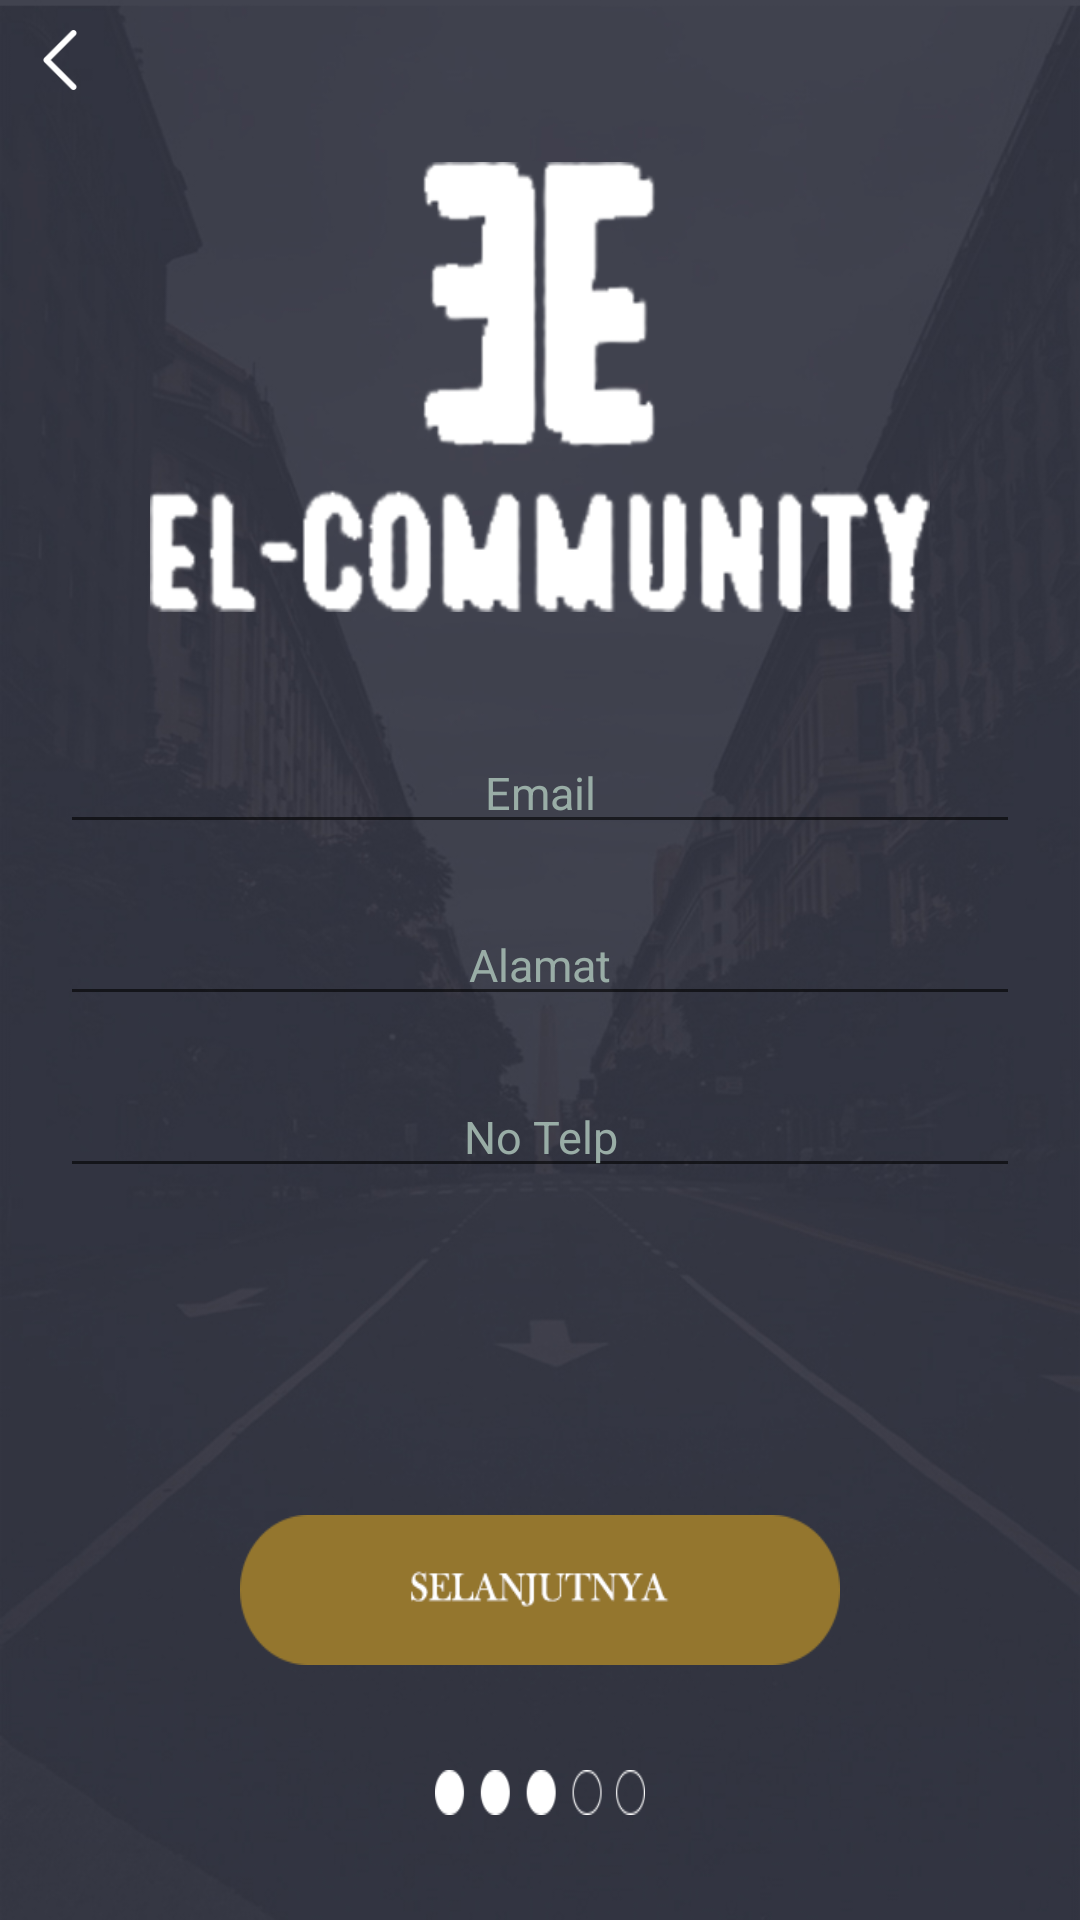

Screen size 1080w x 1920h. Icon name, then its center in pixels as point (x, y):
back: point (60, 60)
